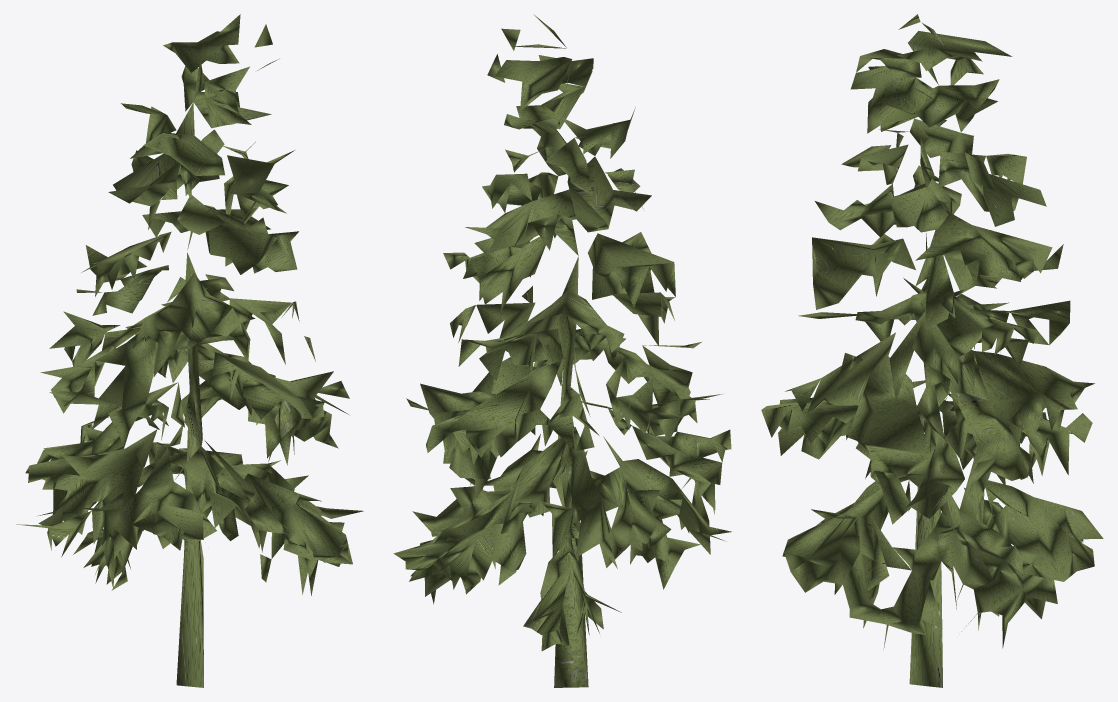
Rendered from abies-fabri-l2.glb.
3 views of the same model, side by side, from view 1: azimuth 30°, elevation 25°; view 2: azimuth 150°, elevation 25°; view 3: azimuth 270°, elevation 25° (orthographic). The views are drawn at different scales.
Visible parts, largest first — view 1: geometry_0; view 2: geometry_0; view 3: geometry_0.
Boxes of the visible parts, x1,y1,x2,y2 form: geometry_0: [16, 14, 363, 687]; geometry_0: [393, 15, 731, 687]; geometry_0: [761, 14, 1103, 687].
Bounding box in the file's own units: 4.06 × 7.81 × 3.51.
Materials: 1 (1 with a texture image).
